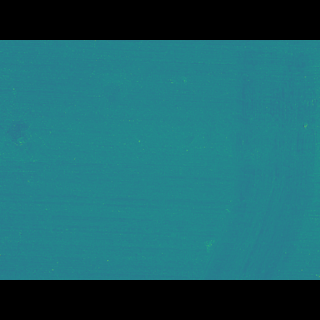Loch: (193, 68, 320, 251), (0, 121, 38, 157)
